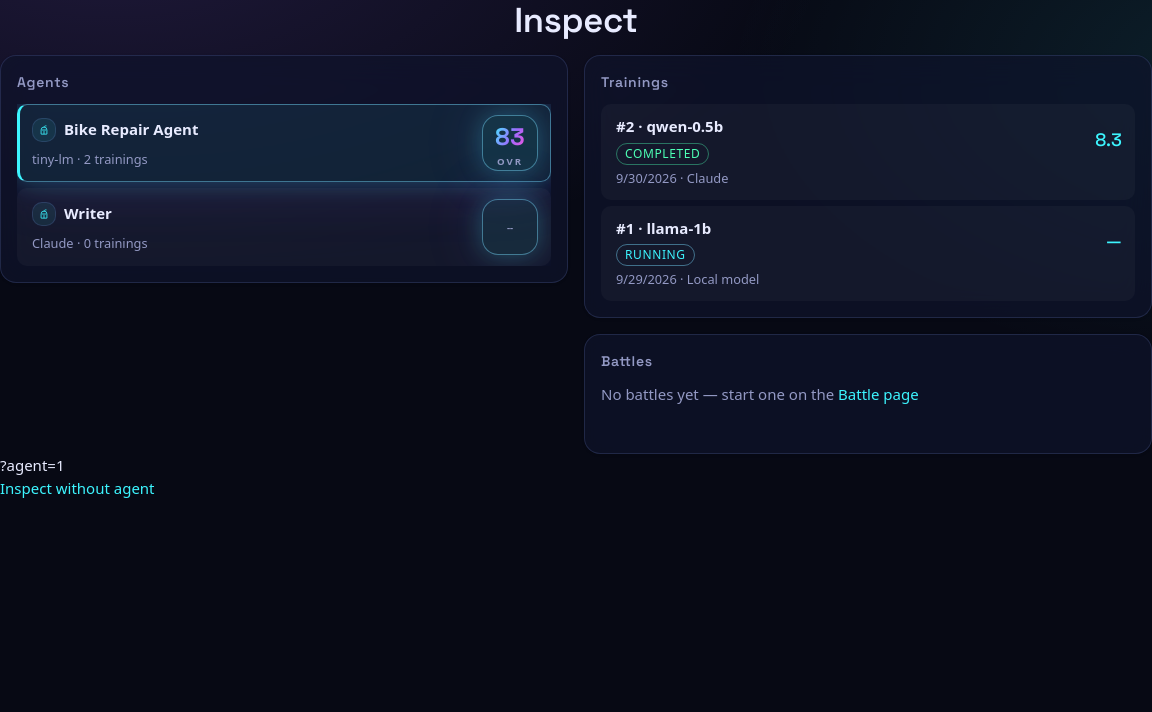
Test: selecting a round loads its scenarios
Click the button "#2 · qwen-0.5b completed 9/30/2026 · Claude 8.3": [685, 126] box [601,104,1135,200]
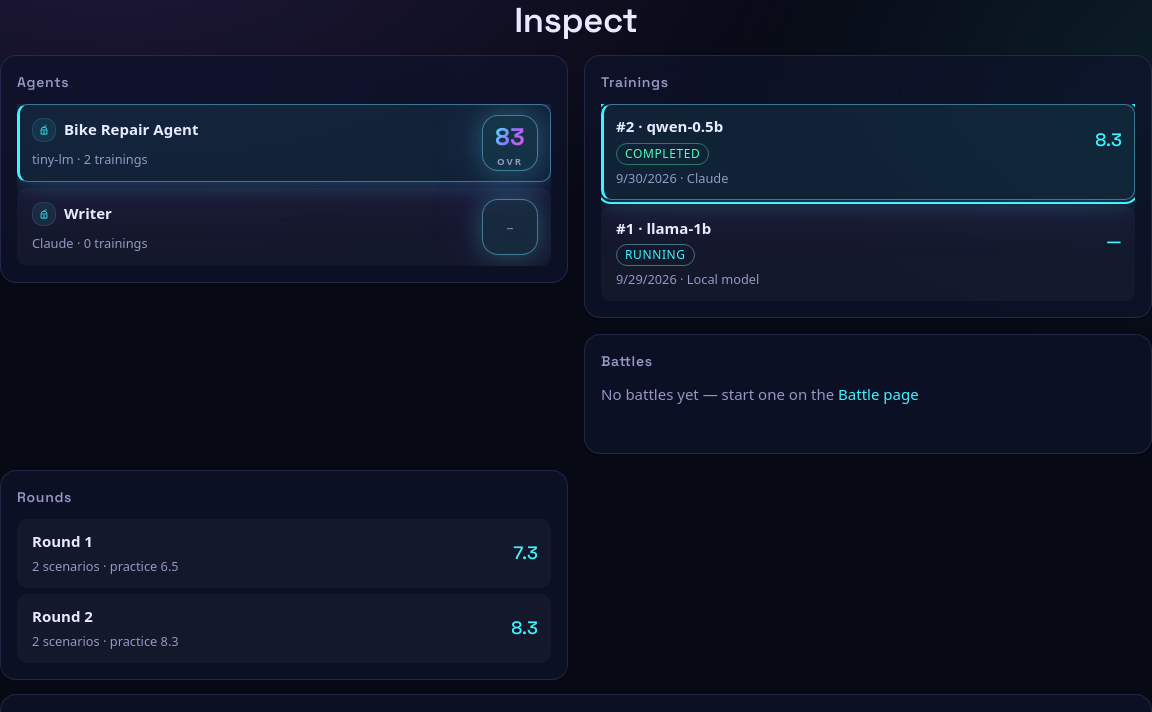
Click the button "Round 2 2 scenarios · practice 8.3 8.3": [58, 616] box [17,594,551,663]
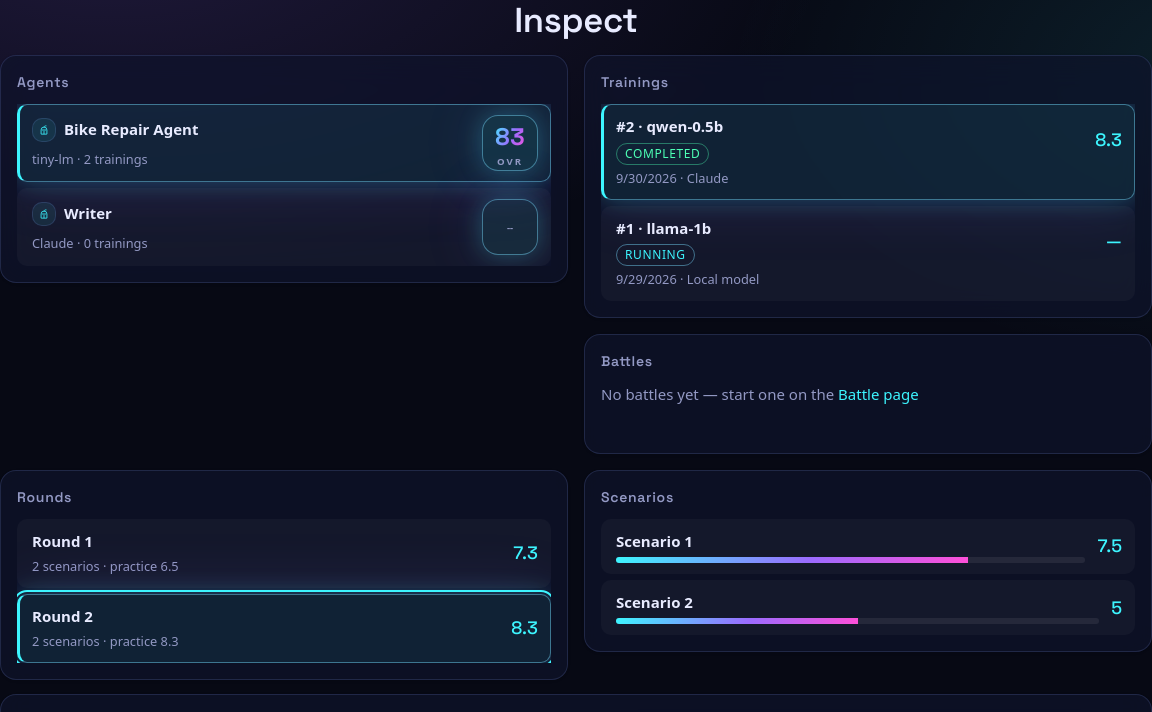
Check: the button "Scenario 1 7.5" is shown, box [601,519,1135,574]
Check: the button "Scenario 2 5" is shown, box [601,580,1135,635]
